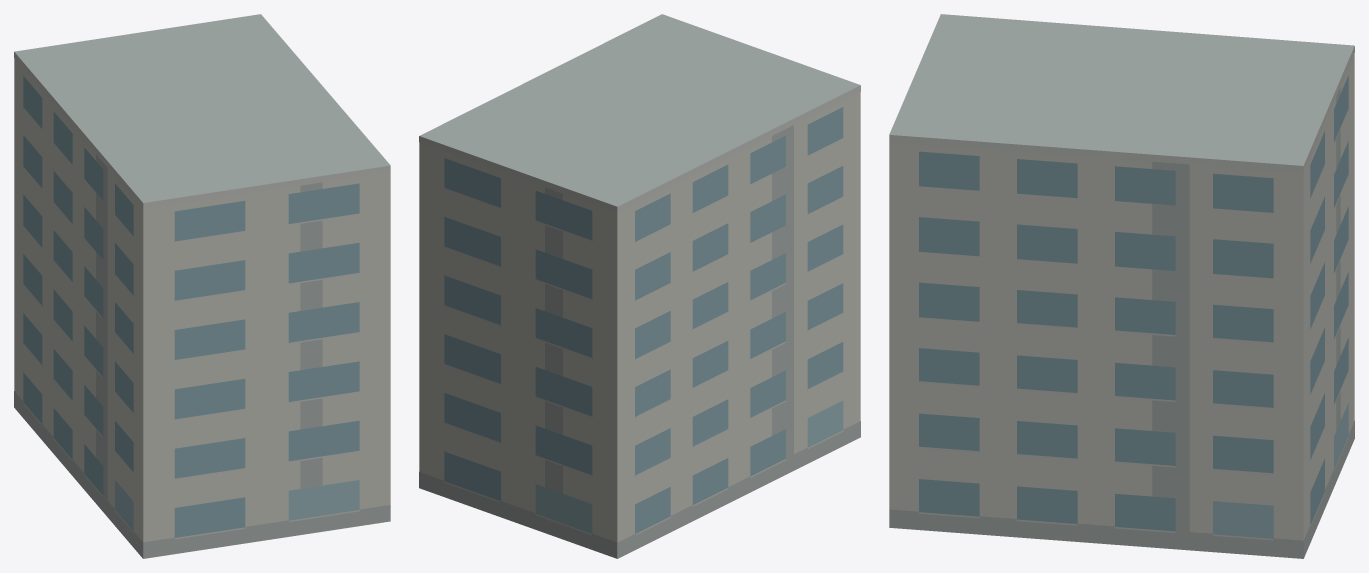
The model's file is survey-upis-32892663.glb.
The picture shows the model from 3 angles, left to right: view 1: azimuth 30°, elevation 25°; view 2: azimuth 150°, elevation 25°; view 3: azimuth 270°, elevation 25°; orthographic projection. The views are drawn at different scales.
Parts seen in each view (by area): view 1: survey-upis-32892663.tmp; view 2: survey-upis-32892663.tmp; view 3: survey-upis-32892663.tmp.
Boxes of the visible parts, left/top/right/bottom form: survey-upis-32892663.tmp: left=14, top=14, right=390, bottom=558; survey-upis-32892663.tmp: left=419, top=14, right=860, bottom=558; survey-upis-32892663.tmp: left=889, top=14, right=1354, bottom=558.
Size of the model in its own units: 11.12 by 13.4 by 14.4.
